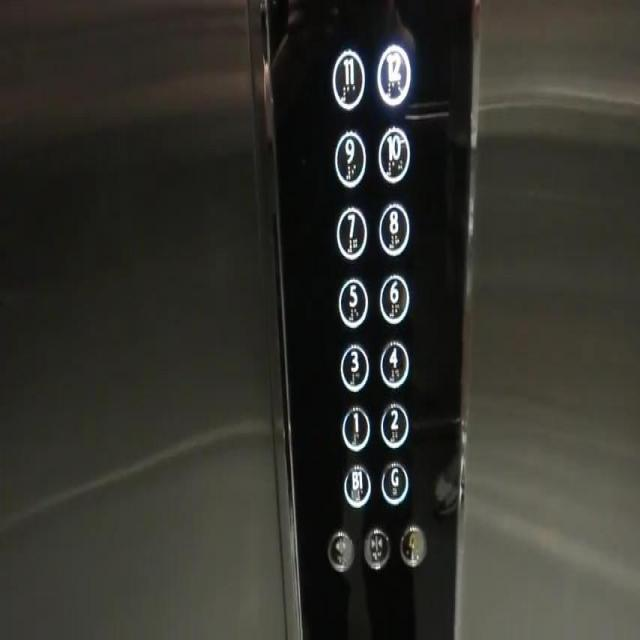1: (341, 405, 370, 452)
10: (378, 124, 408, 184)
11: (330, 48, 365, 108)
12: (375, 41, 410, 108)
2: (380, 400, 408, 451)
3: (336, 341, 369, 391)
4: (379, 338, 409, 386)
5: (337, 272, 369, 328)
6: (377, 269, 408, 324)
7: (333, 203, 368, 257)
8: (376, 200, 410, 255)
9: (333, 128, 365, 188)
B1: (342, 461, 371, 508)
G: (379, 458, 409, 502)
alarm: (398, 524, 426, 564)
close: (360, 524, 390, 569)
open: (326, 530, 354, 574)
